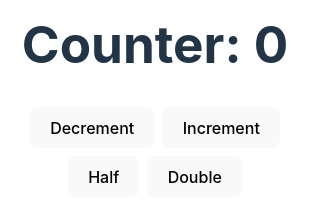
Scenario: Component: Counter › should decrement the counter correctly
Expected: the heading with test id "counter" reads "Counter: 0", left=22, top=16, right=288, bottom=73
What coordinates should you click on to do the following:
click the button with test id "decrement-button"
I would click on:
 (92, 128)
Its box is left=30, top=107, right=154, bottom=148.
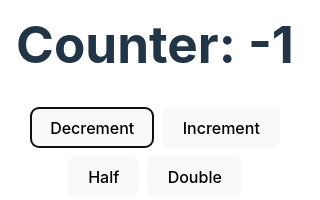
Expected: the heading with test id "counter" reads "Counter: -1", left=16, top=16, right=294, bottom=73
